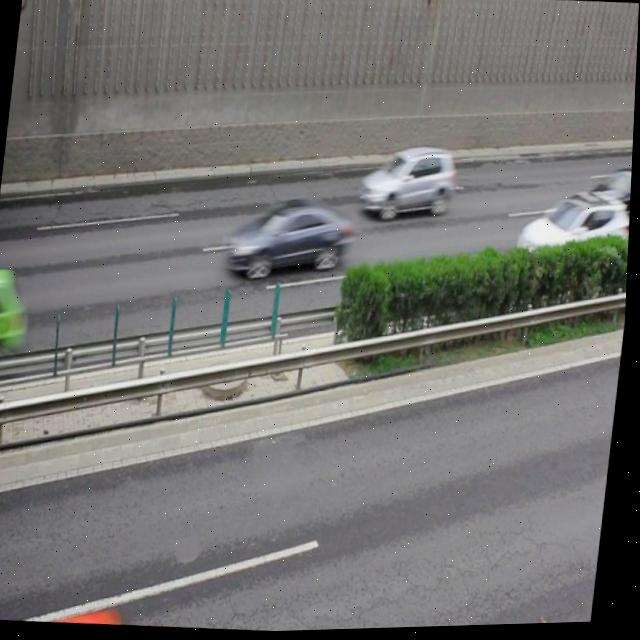car: (227, 196, 356, 287), (514, 193, 633, 275), (361, 139, 460, 225), (7, 602, 204, 634), (0, 270, 35, 374), (585, 167, 634, 229)
